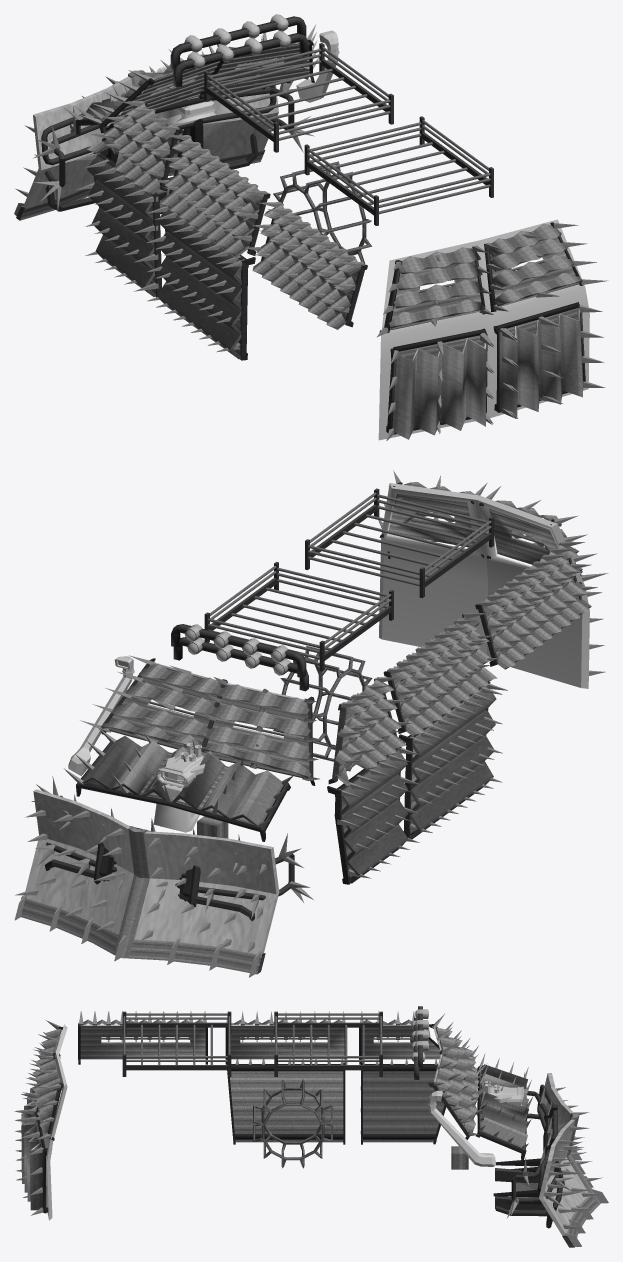
Rendered from VanArmor.fbx.
The picture shows the model from 3 angles, top to bottom: view 1: azimuth 30°, elevation 25°; view 2: azimuth 150°, elevation 25°; view 3: azimuth 270°, elevation 25°; orthographic projection. The views are drawn at different scales.
Parts seen in each view (by area): view 1: trunkreinforcedrear, roofrack, windowrearreinforcedleft, plow, windowreinforcedrear, Trunk_obj, doorrearreinforcedleft, doorfrontreinforcedleft, windowfrontreinforcedleft, windowheavyrear, windowlightfront, windowheavyspikedfront (+23 smaller); view 2: plow, Trunk_obj, roofrack, plow_spiked, windowrearreinforcedleft, windowreinforcedfront, hoodreinforcedfront, doorrearreinforcedleft, doorfrontreinforcedleft, windowheavyfront, windowheavyrear, windowfrontreinforcedleft (+23 smaller); view 3: windowrearheavyleft, doorrearheavyleft, roofrack, doorfrontheavyleft, plow, windowreinforcedfront, chaintires, hoodreinforcedfront, windowfrontheavyspikedleft, plow_spiked, trunkreinforcedrear, windowreinforcedrear (+22 smaller).
Part boxes in pixels (left/top/right/bottom): trunkreinforcedrear: left=388, top=302, right=583, bottom=439; roofrack: left=204, top=43, right=493, bottom=225; windowrearreinforcedleft: left=161, top=137, right=361, bottom=329; plow: left=14, top=59, right=278, bottom=220; windowreinforcedrear: left=389, top=223, right=582, bottom=328; Trunk_obj: left=378, top=219, right=589, bottom=440; doorrearreinforcedleft: left=157, top=207, right=248, bottom=359; doorfrontreinforcedleft: left=87, top=153, right=159, bottom=296; windowfrontreinforcedleft: left=87, top=103, right=175, bottom=194; windowheavyrear: left=379, top=222, right=583, bottom=333; windowlightfront: left=110, top=43, right=309, bottom=124; windowheavyspikedfront: left=81, top=25, right=318, bottom=132; plow: left=14, top=789, right=279, bottom=977; Trunk_obj: left=379, top=483, right=589, bottom=688; roofrack: left=204, top=488, right=494, bottom=671; plow_spiked: left=15, top=792, right=276, bottom=953; windowrearreinforcedleft: left=391, top=545, right=591, bottom=736; windowreinforcedfront: left=101, top=663, right=311, bottom=778; hoodreinforcedfront: left=78, top=736, right=283, bottom=831; doorrearreinforcedleft: left=405, top=686, right=496, bottom=839; doorfrontreinforcedleft: left=335, top=749, right=408, bottom=883; windowheavyfront: left=102, top=658, right=315, bottom=785; windowheavyrear: left=379, top=482, right=582, bottom=584; windowfrontreinforcedleft: left=335, top=679, right=405, bottom=786; windowrearheavyleft: left=78, top=1023, right=344, bottom=1064; doorrearheavyleft: left=227, top=1062, right=345, bottom=1144; roofrack: left=122, top=1011, right=382, bottom=1076; doorfrontheavyleft: left=361, top=1062, right=446, bottom=1144; plow: left=493, top=1073, right=608, bottom=1247; windowreinforcedfront: left=436, top=1027, right=478, bottom=1133; chaintires: left=253, top=1079, right=332, bottom=1168; hoodreinforcedfront: left=477, top=1064, right=528, bottom=1153; windowfrontheavyspikedleft: left=359, top=1011, right=440, bottom=1064; plow_spiked: left=543, top=1087, right=602, bottom=1228; trunkreinforcedrear: left=21, top=1086, right=46, bottom=1213; windowreinforcedrear: left=32, top=1028, right=61, bottom=1132.
Size of the model in its own units: 282 by 225 by 680.
